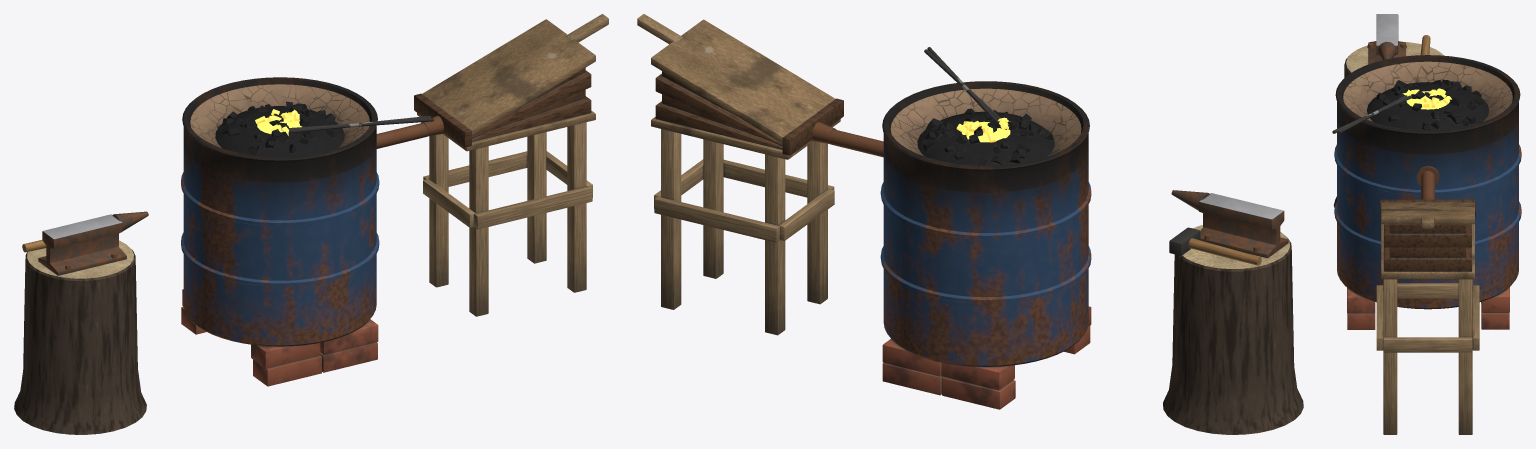
File: forja_tambor.glb
3 views of the same model, side by side, from view 1: azimuth 30°, elevation 25°; view 2: azimuth 150°, elevation 25°; view 3: azimuth 270°, elevation 25° (orthographic). The views are drawn at different scales.
Parts seen in each view (by area): view 1: fornalha, fole, bigorna, carvao, ferramentas, brasa; view 2: fornalha, fole, bigorna, carvao, ferramentas, brasa; view 3: fornalha, fole, carvao, bigorna, ferramentas, brasa.
Boxes of the visible parts, box(x1,y1,x2,y2) form: fornalha: box(181, 77, 379, 386); fole: box(376, 14, 608, 316); bigorna: box(14, 211, 148, 434); carvao: box(215, 101, 344, 156); ferramentas: box(22, 115, 433, 252); brasa: box(255, 109, 302, 135); fornalha: box(880, 81, 1091, 409); fole: box(637, 14, 883, 335); bigorna: box(1163, 190, 1303, 434); carvao: box(917, 108, 1054, 165); ferramentas: box(924, 47, 1261, 265); brasa: box(956, 117, 1010, 142); fornalha: box(1334, 55, 1521, 329); fole: box(1376, 171, 1479, 434); carvao: box(1366, 80, 1489, 130); bigorna: box(1333, 14, 1443, 207); ferramentas: box(1332, 35, 1430, 133); brasa: box(1402, 88, 1451, 109).
Bounding box in the file's own units: 2.08 × 0.817 × 0.6026.
4 materials, 3 textured.
